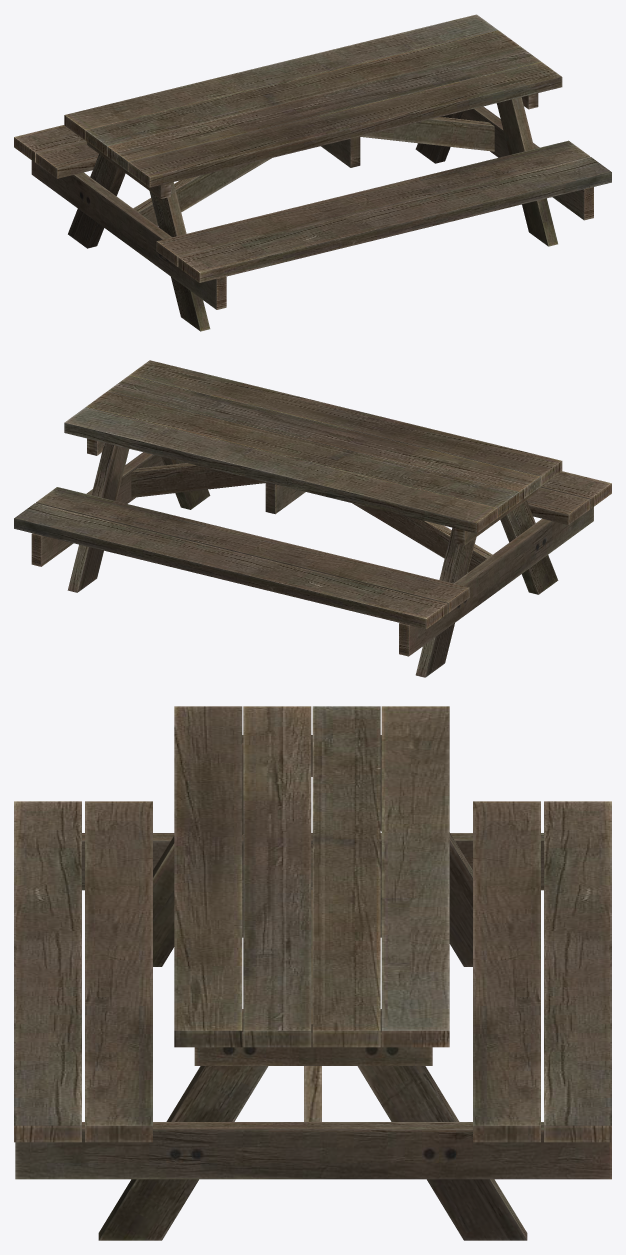
File: Picnic_Table.glb
3 views of the same model, one above another, from view 1: azimuth 30°, elevation 25°; view 2: azimuth 150°, elevation 25°; view 3: azimuth 270°, elevation 25° (orthographic). The views are drawn at different scales.
Parts seen in each view (by area): view 1: Picnic_Table__LOD2; view 2: Picnic_Table__LOD2; view 3: Picnic_Table__LOD2.
Boxes of the visible parts, bbox=[...] form: Picnic_Table__LOD2: bbox=[14, 14, 611, 331]; Picnic_Table__LOD2: bbox=[14, 360, 611, 677]; Picnic_Table__LOD2: bbox=[14, 706, 611, 1240].
Bounding box in the file's own units: 2.49 × 0.8278 × 1.94.
Materials: 1 (1 with a texture image).
